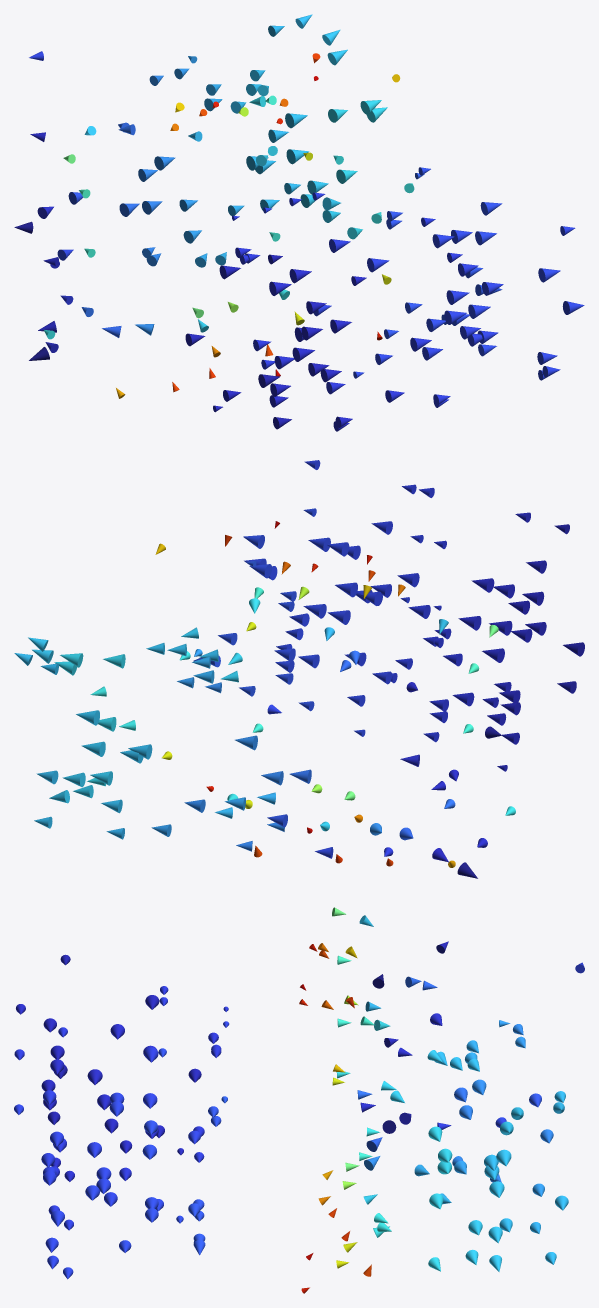
File: LineasCorrienteN2-H2O_mh2-5.58_V-1.1.glb
The picture shows the model from 3 angles, top to bottom: view 1: azimuth 30°, elevation 25°; view 2: azimuth 150°, elevation 25°; view 3: azimuth 270°, elevation 25°; orthographic projection. The views are drawn at different scales.
Size of the model in its own units: 0.000991 by 0.0007 by 0.00122.
Materials: 2 (2 with a texture image).
